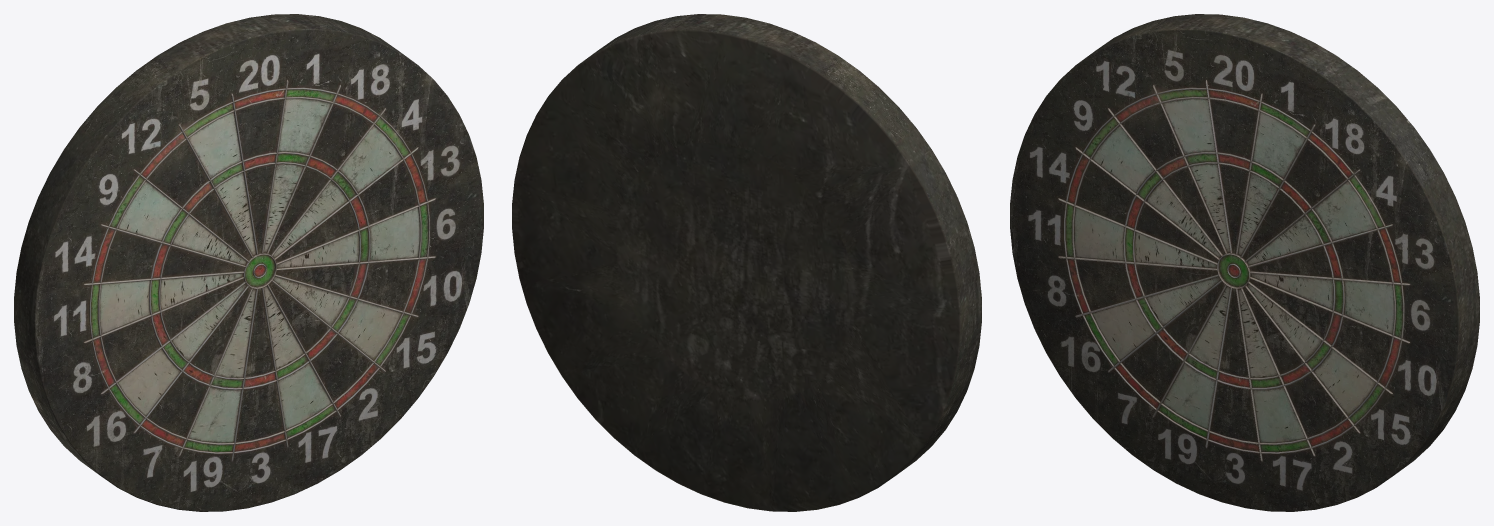
File: dartboard.glb
3 renders of one model, left to right at view 1: azimuth 30°, elevation 25°; view 2: azimuth 150°, elevation 25°; view 3: azimuth 330°, elevation 25°, orthographic.
Parts seen in each view (by area): view 1: dartboard; view 2: dartboard; view 3: dartboard.
Part boxes in pixels (x1,y1,x2,y2): dartboard: (14, 14, 483, 511); dartboard: (512, 14, 981, 511); dartboard: (1010, 14, 1479, 511).
Size of the model in its own units: 0.4507 by 0.4507 by 0.0398.
Materials: 1 (1 with a texture image).
